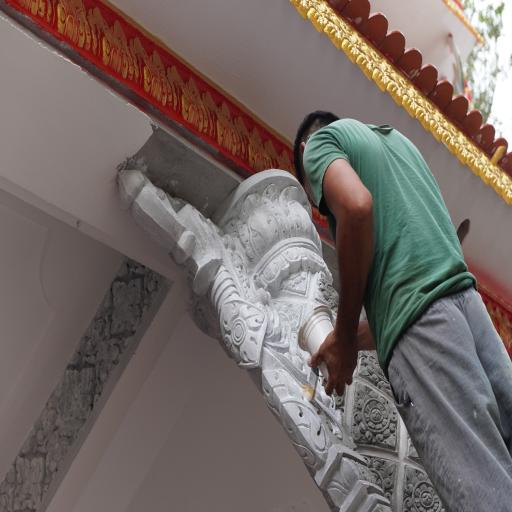hoa: (346, 377, 403, 456), (212, 295, 266, 373), (55, 368, 100, 430), (397, 460, 447, 512), (8, 448, 49, 507), (105, 278, 148, 333), (354, 451, 398, 503), (354, 349, 396, 396), (310, 269, 347, 316)
la: (174, 71, 212, 144), (98, 8, 134, 80), (138, 36, 171, 108), (54, 0, 92, 52), (211, 96, 241, 156), (242, 117, 267, 177)
ran: (101, 154, 394, 512)
